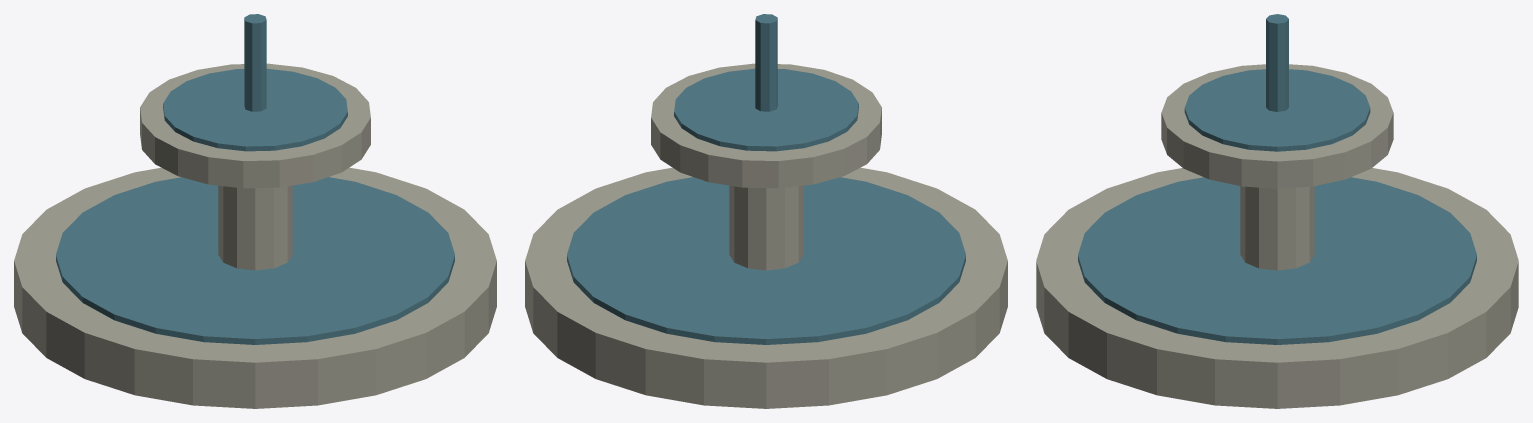
The model's file is fountain.glb.
3 renders of one model, left to right at view 1: azimuth 30°, elevation 25°; view 2: azimuth 150°, elevation 25°; view 3: azimuth 270°, elevation 25°, orthographic.
Visible parts, largest first — view 1: fountain; view 2: fountain; view 3: fountain.
Boxes of the visible parts, x1,y1,x2,y2 form: fountain: [14, 14, 496, 408]; fountain: [525, 14, 1007, 408]; fountain: [1036, 14, 1518, 408].
Size of the model in its own units: 1 by 0.6587 by 1.
